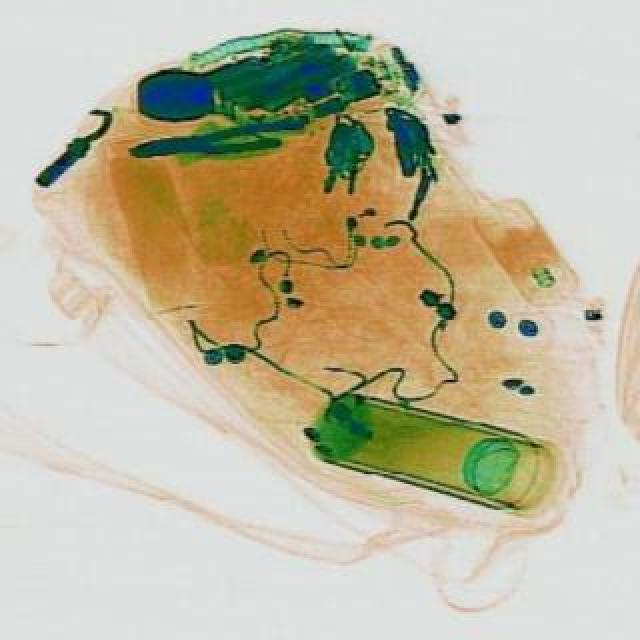wrench: (124, 118, 304, 170)
